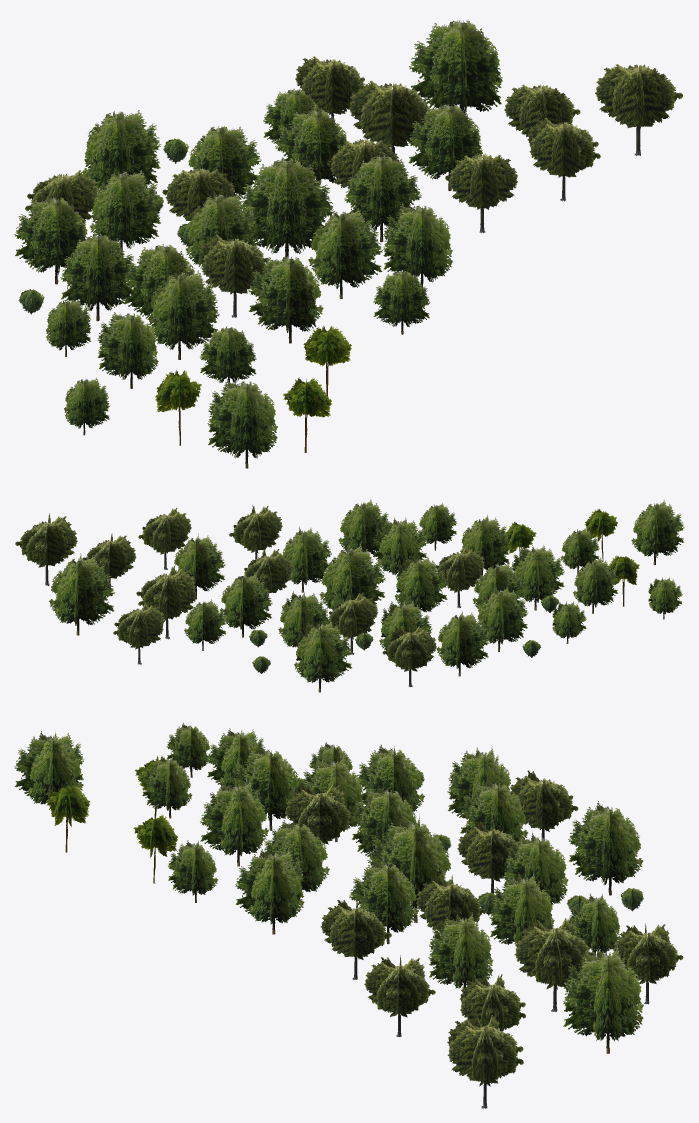
File: ParkTreesChunk8.fbx
3 views of the same model, one above another, from view 1: azimuth 30°, elevation 25°; view 2: azimuth 150°, elevation 25°; view 3: azimuth 270°, elevation 25° (orthographic). The views are drawn at different scales.
Parts seen in each view (by area): view 1: TreesPack.005; view 2: TreesPack.005; view 3: TreesPack.005.
Part boxes in pixels (x1,y1,x2,y2): TreesPack.005: (14, 20, 682, 468); TreesPack.005: (15, 499, 684, 692); TreesPack.005: (14, 722, 683, 1108).
Bounding box in the file's own units: 13826 × 2165 × 11274.
